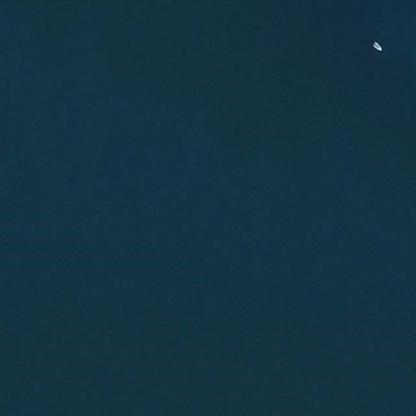ship: (370, 39, 385, 52)
